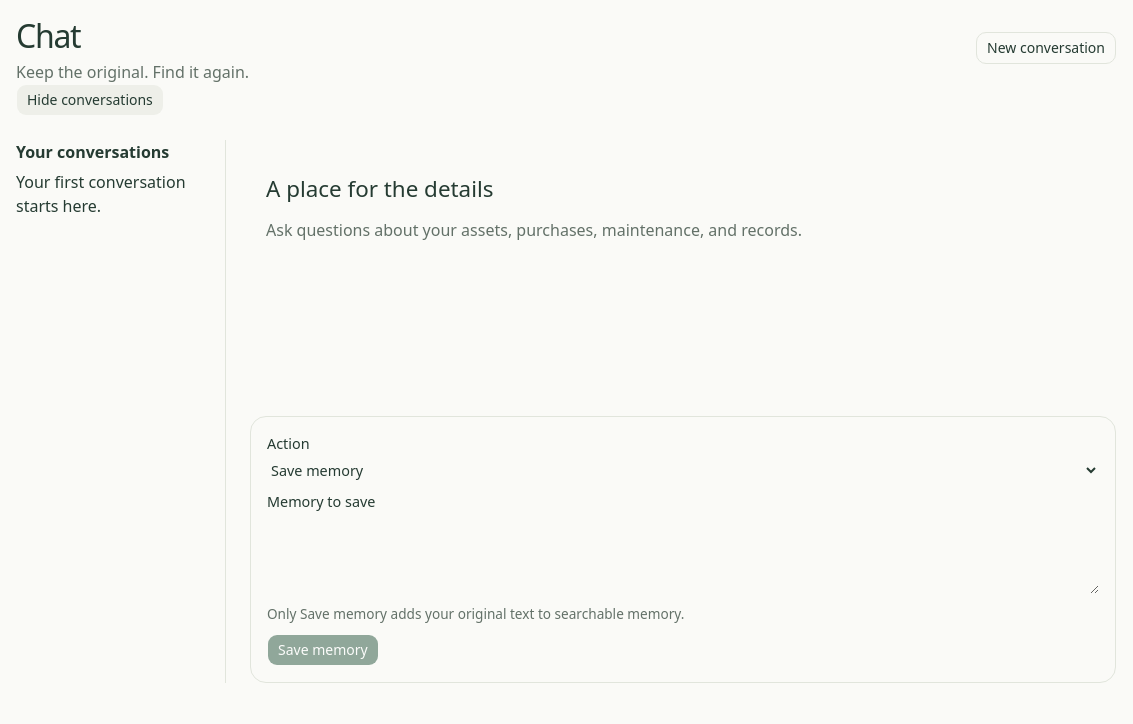
Test case: private text memory chat › retries a lost response using the same request ID
This screenshot has width=1133, height=724.
Check: the heading "A place for the details" is shown, box x1=266 y1=173 x2=494 y2=204
Type "My filter is 16x25x1." into the text box labelled "Memory to save" at {"x": 683, "y": 558}, box x1=267 y1=522 x2=1099 y2=594
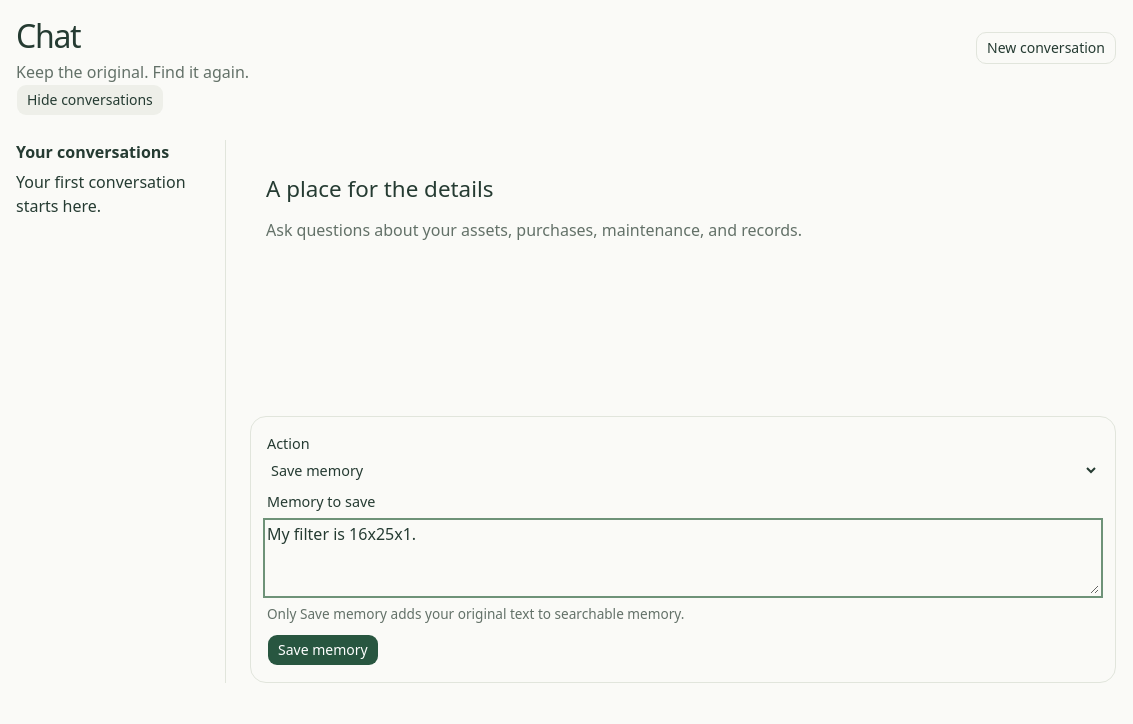
Click the button "Save memory" at {"x": 323, "y": 650}, box x1=267 y1=634 x2=379 y2=666
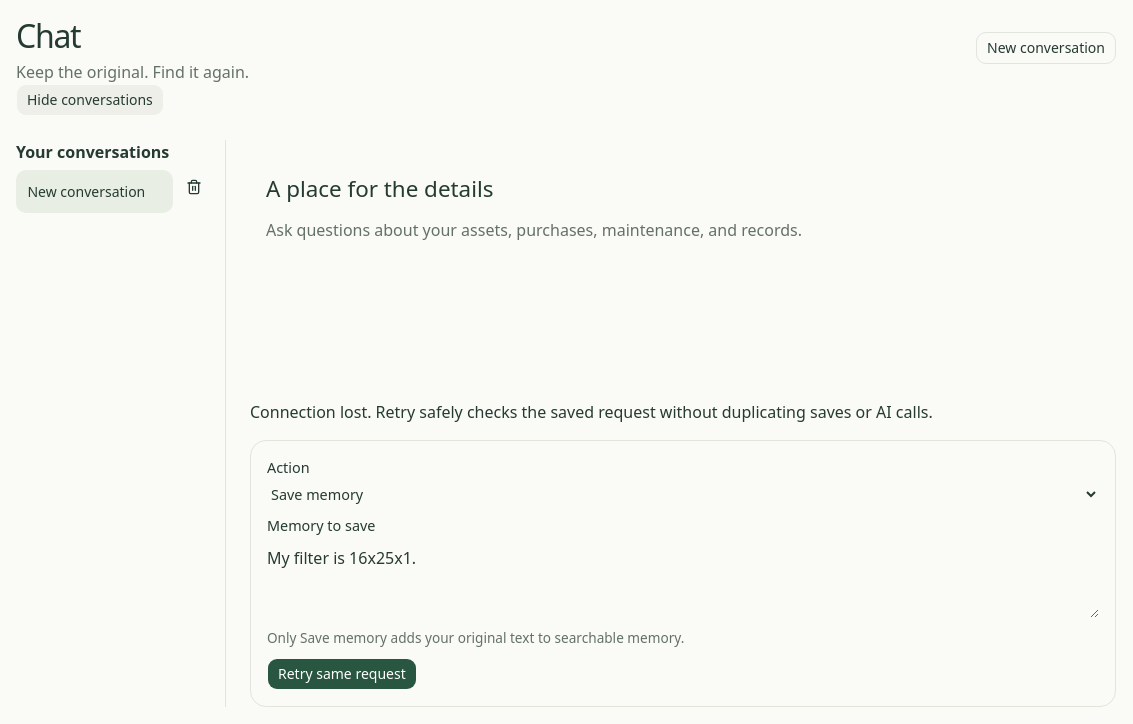
Check: the message is shown, box x1=250 y1=401 x2=933 y2=423
Click the button "Retry same request" at {"x": 342, "y": 674}, box x1=267 y1=658 x2=417 y2=690
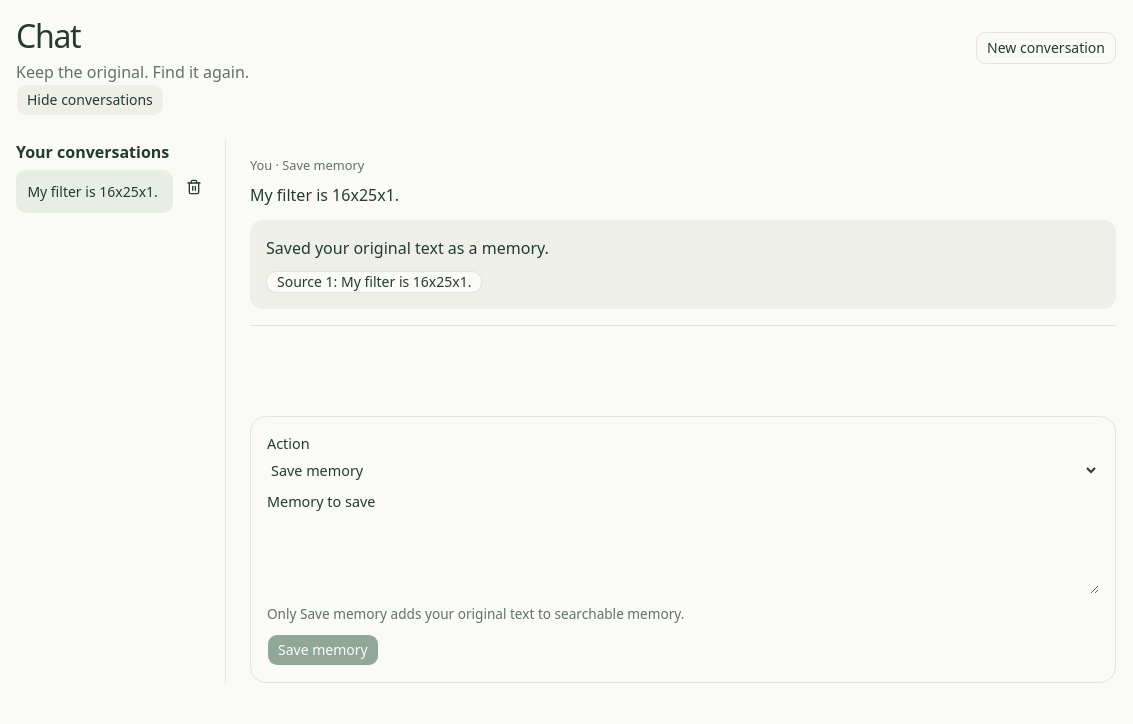
Check: the text "Saved your original text as a memory." is shown, box x1=266 y1=237 x2=549 y2=259
Check: the text box labelled "Memory to save" is enabled, box x1=267 y1=522 x2=1099 y2=594
